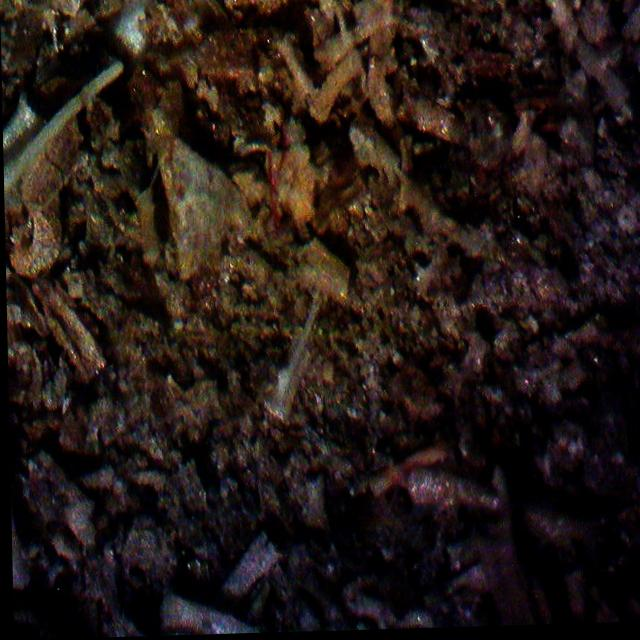microplastic: (233, 123, 292, 237)
